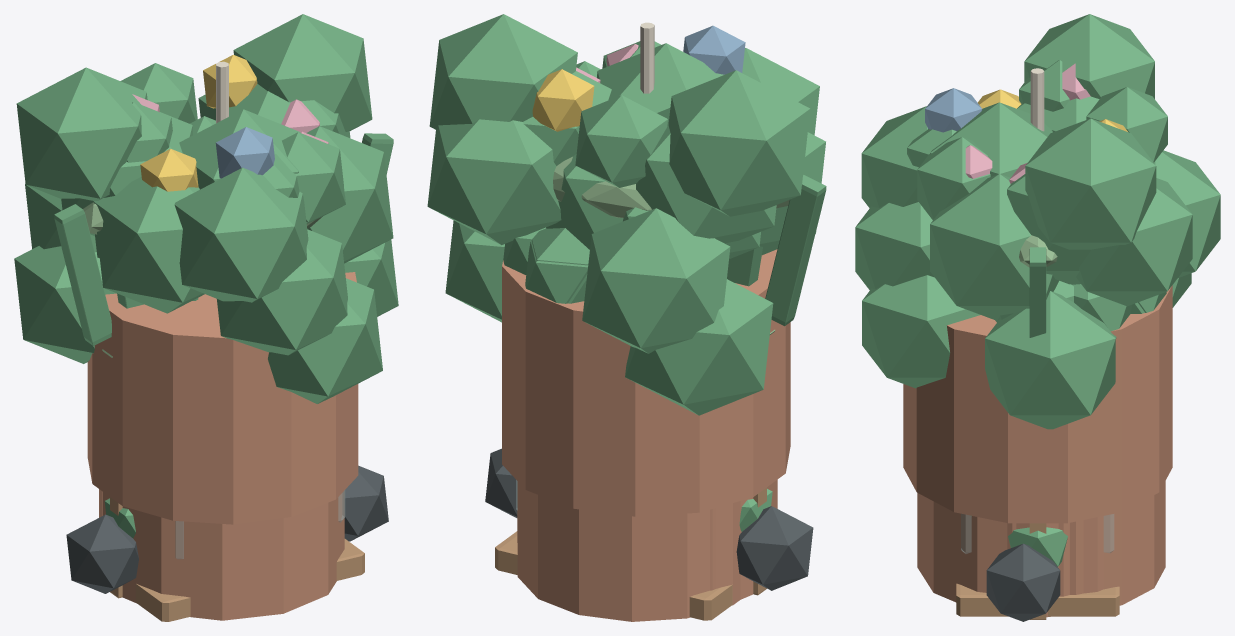
The model's file is greenery.glb.
The picture shows the model from 3 angles, left to right: view 1: azimuth 30°, elevation 25°; view 2: azimuth 150°, elevation 25°; view 3: azimuth 270°, elevation 25°; orthographic projection. The views are drawn at different scales.
Visible parts, largest first — view 1: HF_Monstera, HF_PlanterStand, HF_Bonsai, HF_HangingPlanter, HF_ZenTray, HF_FlowerVase, HF_SnakePlant, HF_Pothos, HF_Terrarium; view 2: HF_Monstera, HF_PlanterStand, HF_Bonsai, HF_ZenTray, HF_Pothos, HF_SnakePlant, HF_FlowerVase, HF_HangingPlanter, HF_Plant_Floor, HF_Terrarium; view 3: HF_Monstera, HF_PlanterStand, HF_Bonsai, HF_HangingPlanter, HF_ZenTray, HF_Pothos, HF_FlowerVase, HF_SnakePlant, HF_Terrarium, HF_Plant_Floor.
Boxes of the visible parts, box(x1,y1,x2,y2) form: HF_Monstera: box(14, 14, 398, 517); HF_PlanterStand: box(87, 132, 358, 598); HF_Bonsai: box(61, 84, 393, 313); HF_HangingPlanter: box(100, 61, 344, 620); HF_ZenTray: box(66, 465, 388, 621); HF_FlowerVase: box(132, 54, 328, 300); HF_SnakePlant: box(54, 133, 393, 345); HF_Pothos: box(120, 63, 197, 162); HF_Terrarium: box(104, 490, 345, 558); HF_Monstera: box(427, 14, 819, 621); HF_PlanterStand: box(502, 41, 790, 595); HF_Bonsai: box(523, 43, 825, 255); HF_ZenTray: box(485, 448, 813, 620); HF_Pothos: box(525, 95, 667, 303); HF_SnakePlant: box(727, 175, 826, 326); HF_FlowerVase: box(532, 25, 745, 131); HF_HangingPlanter: box(517, 22, 777, 599); HF_Plant_Floor: box(553, 156, 789, 218); HF_Terrarium: box(516, 480, 772, 531); HF_Monstera: box(855, 14, 1220, 605); HF_PlanterStand: box(903, 129, 1172, 619); HF_Bonsai: box(930, 96, 1099, 320); HF_HangingPlanter: box(917, 68, 1103, 617); HF_ZenTray: box(956, 543, 1119, 621); HF_Pothos: box(1019, 60, 1167, 312); HF_FlowerVase: box(925, 63, 1127, 183); HF_SnakePlant: box(1007, 247, 1069, 596); HF_Terrarium: box(961, 514, 1113, 566); HF_Plant_Floor: box(1019, 235, 1057, 267).
Size of the model in its own units: 0.8135 by 1.15 by 0.7605.
